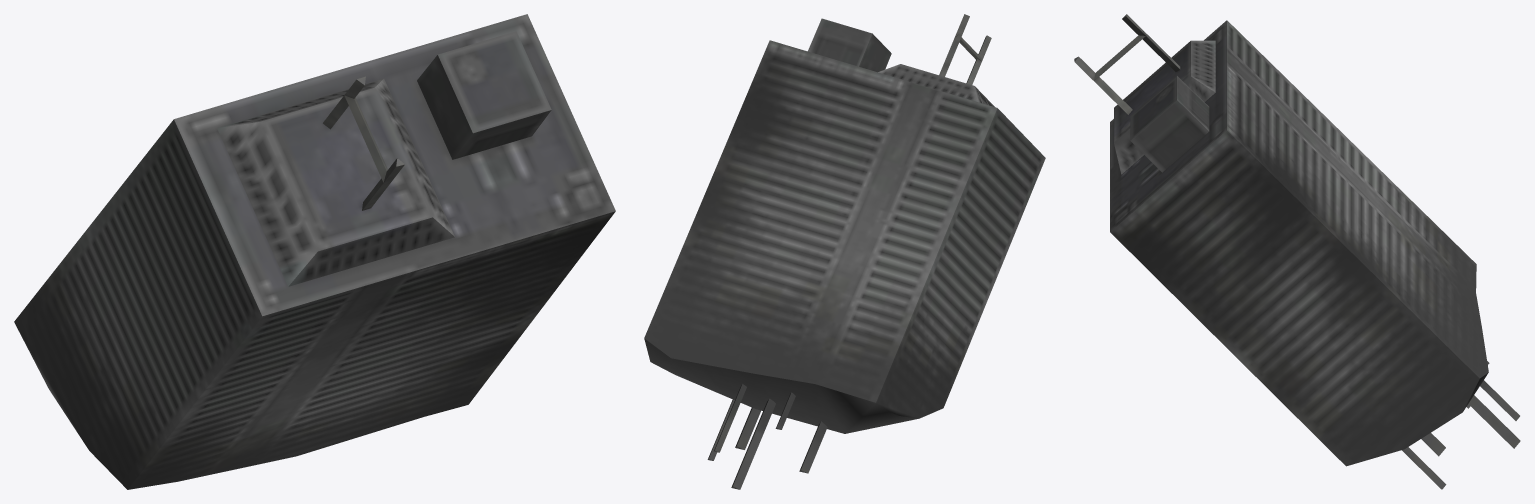
File: skyBuildingAAC_pos_grp (4).fbx
3 renders of one model, left to right at view 1: azimuth 30°, elevation 25°; view 2: azimuth 150°, elevation 25°; view 3: azimuth 270°, elevation 25°, orthographic. The views are drawn at different scales.
Parts seen in each view (by area): view 1: skyBuildingAAC_geo; view 2: skyBuildingAAC_geo; view 3: skyBuildingAAC_geo.
Part boxes in pixels (left/top/right/bottom): skyBuildingAAC_geo: left=14, top=14, right=615, bottom=489; skyBuildingAAC_geo: left=644, top=14, right=1045, bottom=489; skyBuildingAAC_geo: left=1074, top=14, right=1520, bottom=489.
Size of the model in its own units: 5.28 by 7.67 by 7.55.
1 material, 1 textured.
